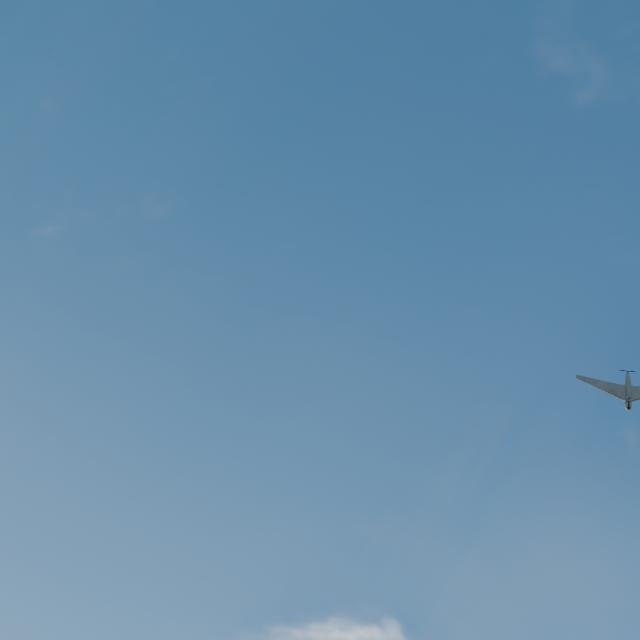Airaplan: (575, 370, 640, 410)
